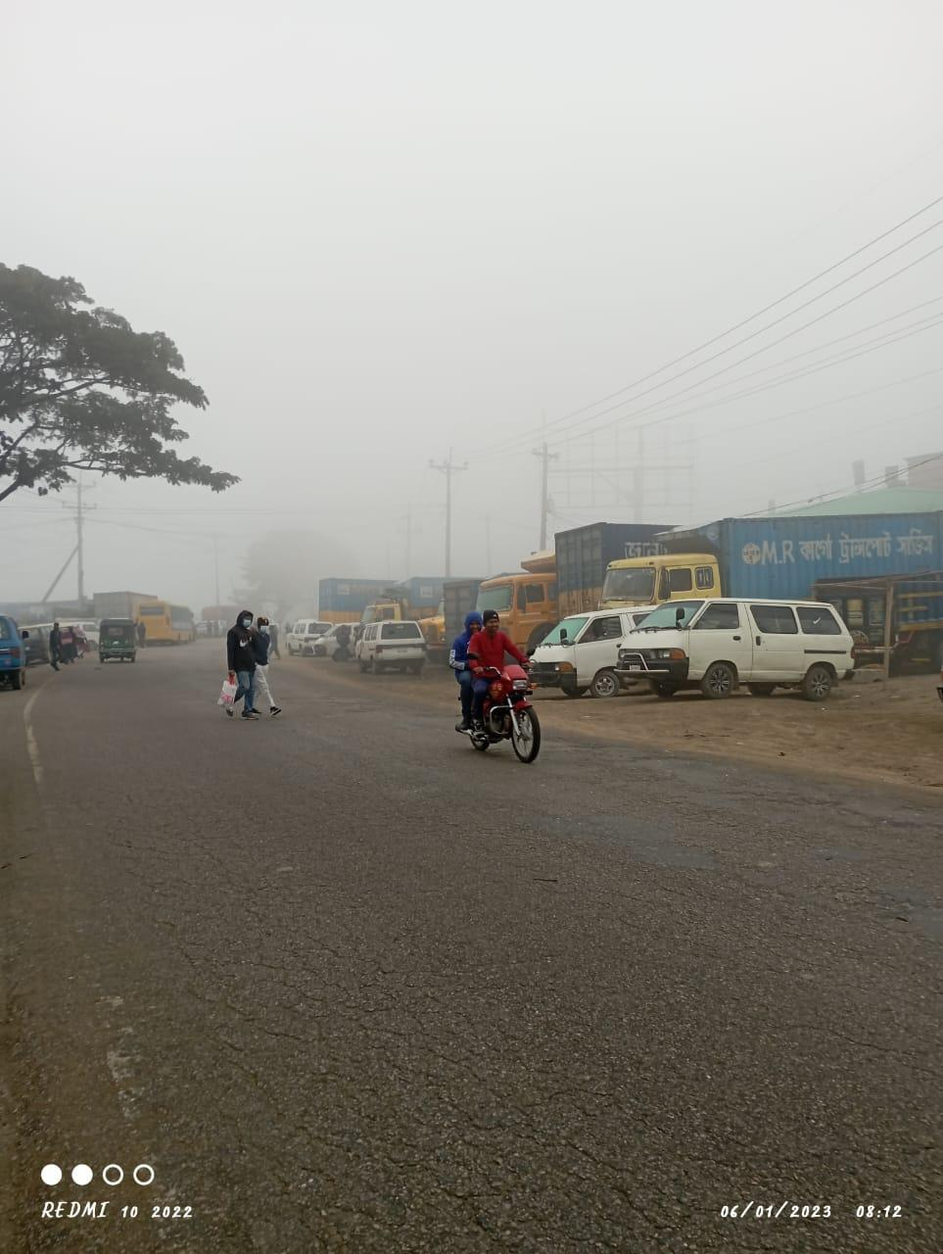Bike: (451, 603, 548, 768)
Car: (616, 585, 868, 708), (530, 608, 617, 704), (341, 614, 440, 679)
Truck: (599, 506, 942, 611), (474, 553, 556, 659)
